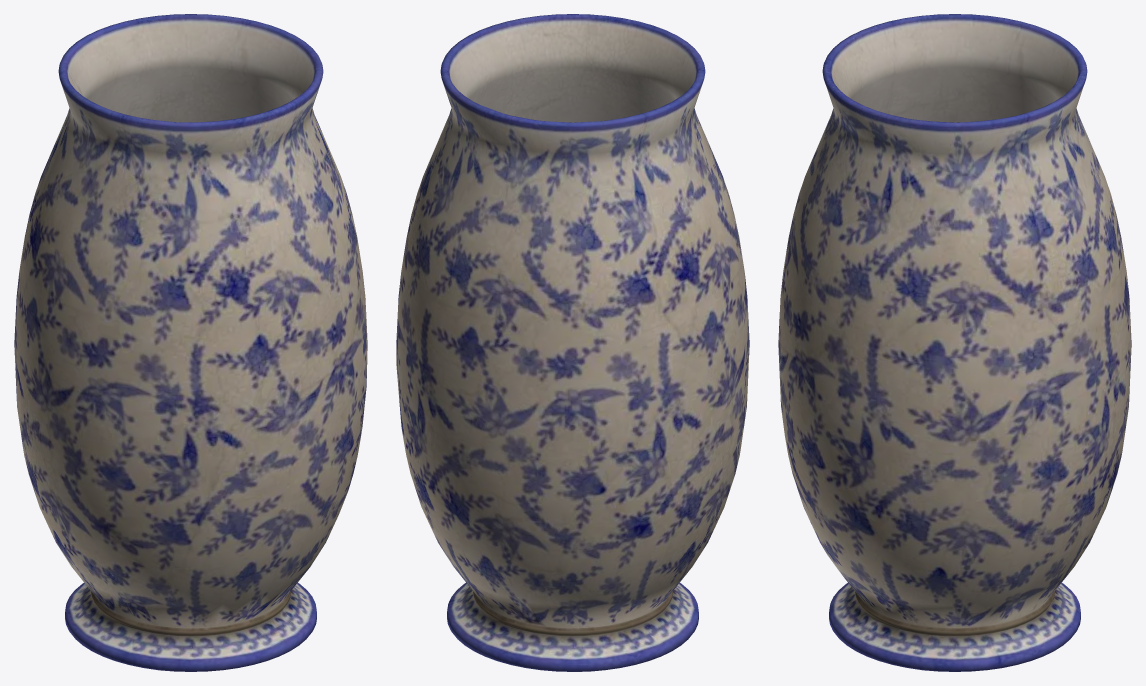
The model's file is antique_ceramic_vase_01.glb.
3 views of the same model, side by side, from view 1: azimuth 30°, elevation 25°; view 2: azimuth 150°, elevation 25°; view 3: azimuth 270°, elevation 25° (orthographic).
Visible parts, largest first — view 1: antique_ceramic_vase_01; view 2: antique_ceramic_vase_01; view 3: antique_ceramic_vase_01.
Boxes of the visible parts, x1,y1,x2,y2 form: antique_ceramic_vase_01: [14, 14, 367, 671]; antique_ceramic_vase_01: [396, 14, 749, 671]; antique_ceramic_vase_01: [778, 14, 1131, 671].
Bounding box in the file's own units: 0.255 × 0.4396 × 0.255.
1 material, 1 textured.
